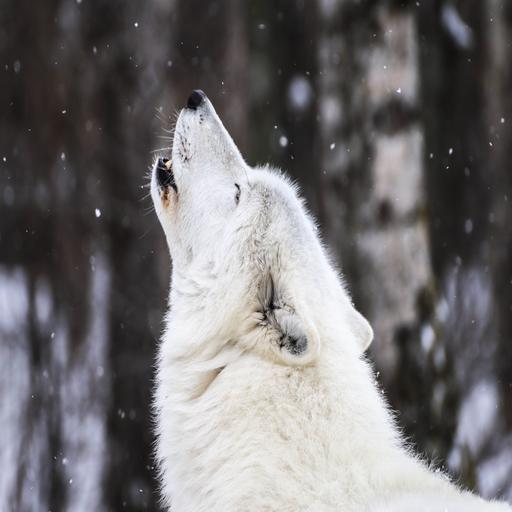Wolf: (148, 87, 512, 512)
